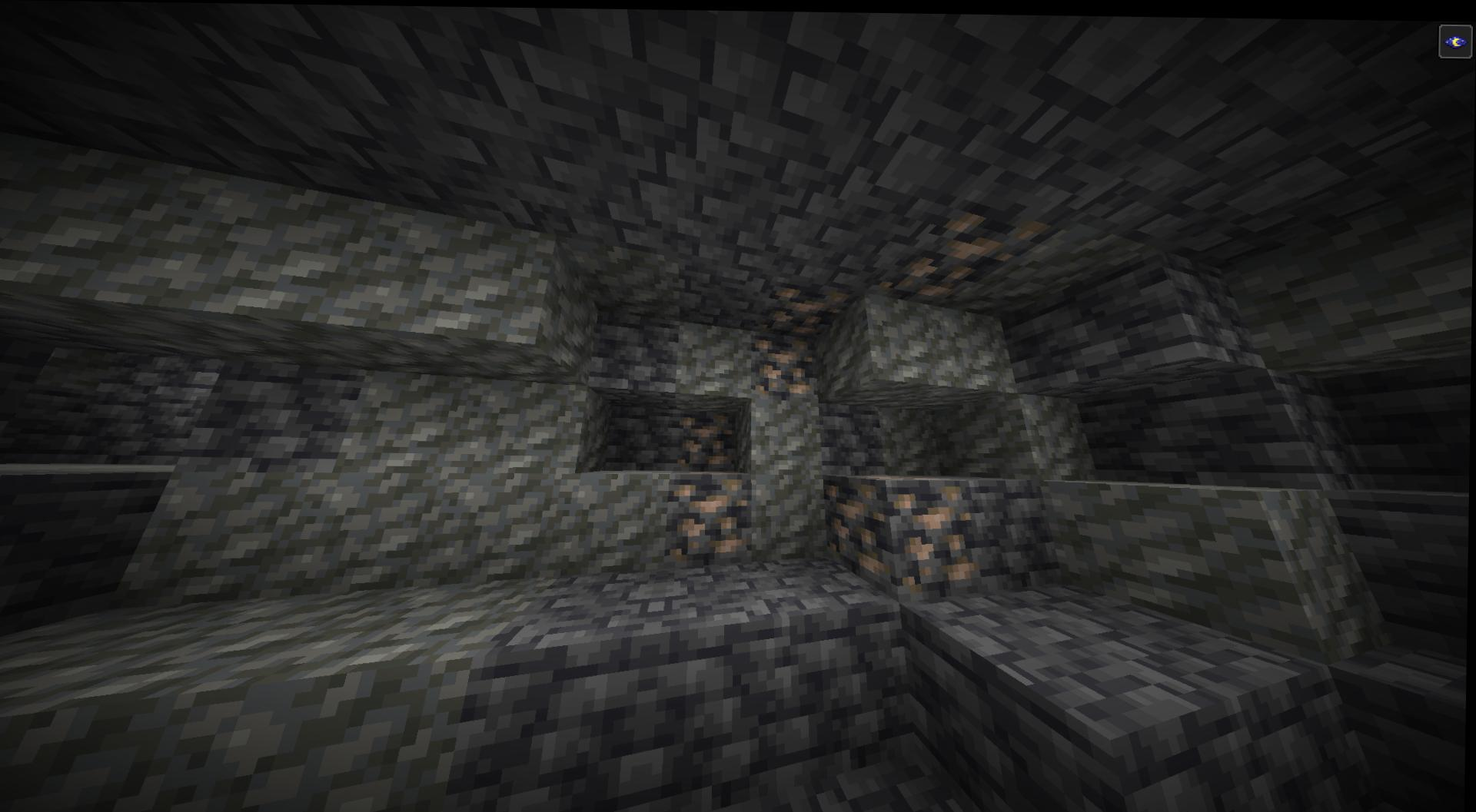iron ore: (867, 197, 1043, 310), (890, 478, 982, 593), (819, 468, 895, 588), (664, 473, 750, 556), (752, 334, 824, 396), (767, 277, 843, 332), (674, 408, 726, 469)
